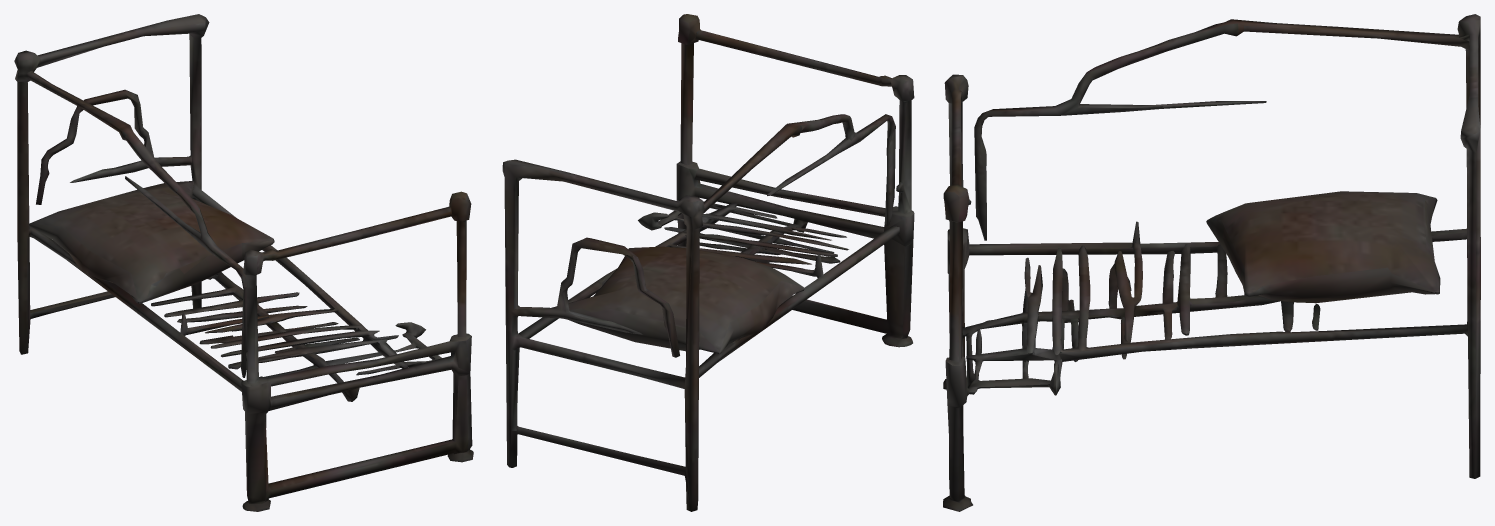
The model's file is chipped-iron-asylum-bed-v001.glb.
3 views of the same model, side by side, from view 1: azimuth 30°, elevation 25°; view 2: azimuth 150°, elevation 25°; view 3: azimuth 270°, elevation 25° (orthographic). The views are drawn at different scales.
Visible parts, largest first — view 1: chipped-iron-asylum-bed; view 2: chipped-iron-asylum-bed; view 3: chipped-iron-asylum-bed.
Boxes of the visible parts, x1,y1,x2,y2 form: chipped-iron-asylum-bed: (14,14,473,511); chipped-iron-asylum-bed: (502,14,914,511); chipped-iron-asylum-bed: (943,14,1480,511).
Size of the model in its own units: 0.8803 by 1.03 by 1.4.
Materials: 1 (1 with a texture image).
